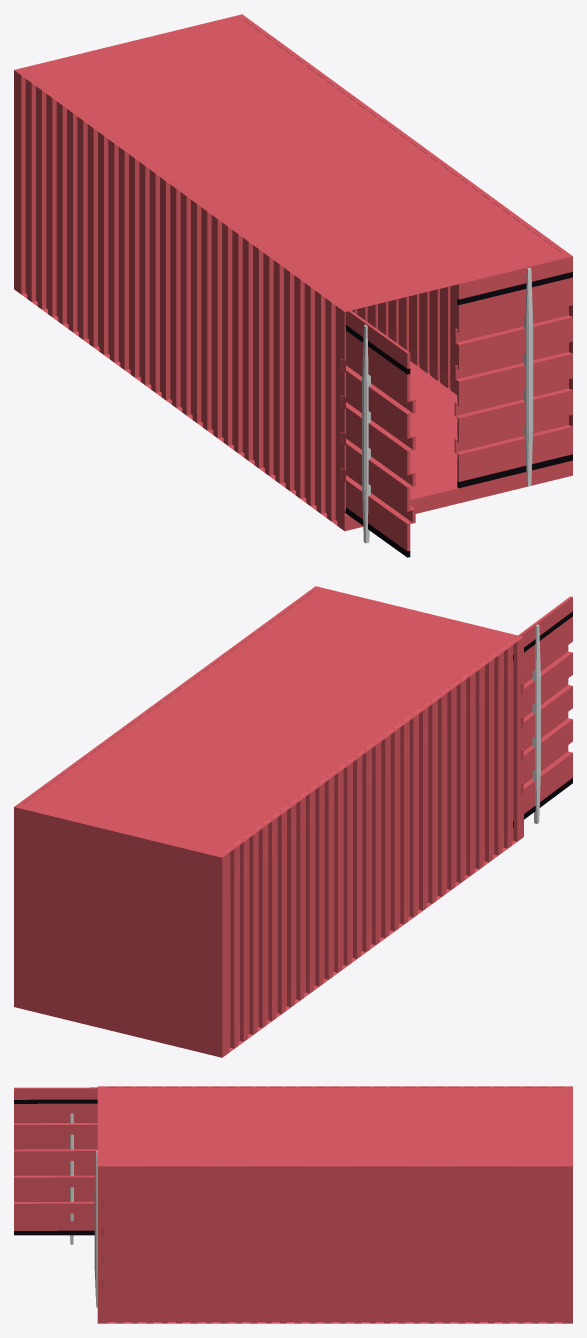
The model's file is redcontainer open.fbx.
3 renders of one model, top to bottom at view 1: azimuth 30°, elevation 25°; view 2: azimuth 150°, elevation 25°; view 3: azimuth 270°, elevation 25°, orthographic. The views are drawn at different scales.
Visible parts, largest first — view 1: Cube.002, Cube.011, Cube.004, Cube.003; view 2: Cube.002, Cube.011, Cube.003; view 3: Cube.002, Cube.011, Cube.004.
Part boxes in pixels (box(x1,y1,x2,y2)): Cube.002: box(14, 14, 572, 531); Cube.011: box(342, 305, 415, 557); Cube.004: box(524, 268, 533, 486); Cube.003: box(362, 324, 370, 543); Cube.002: box(14, 586, 523, 1057); Cube.011: box(511, 596, 572, 827); Cube.003: box(532, 624, 540, 823); Cube.002: box(97, 1086, 572, 1323); Cube.011: box(14, 1087, 108, 1235); Cube.004: box(94, 1151, 97, 1307).
Bounding box in the file's own units: 964 × 301 × 329.
